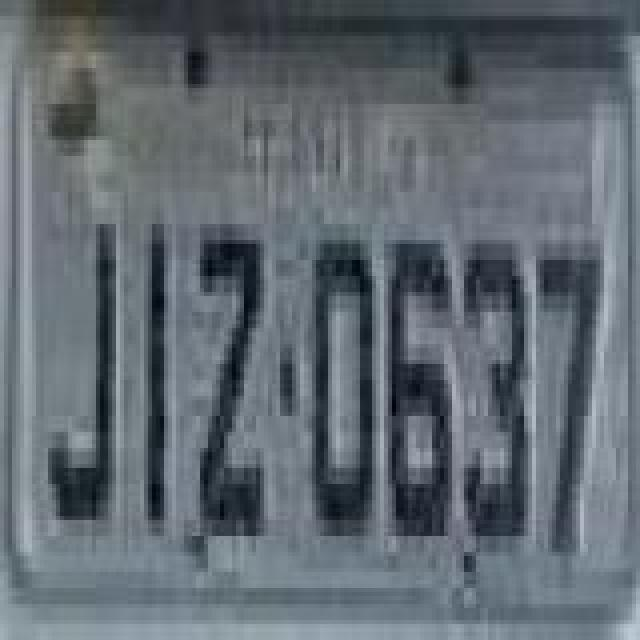1: (140, 208, 172, 536)
3: (456, 228, 536, 556)
6: (386, 236, 454, 548)
7: (534, 244, 610, 556)
J: (42, 216, 118, 544)
O: (310, 224, 378, 536)
Z: (194, 216, 270, 544)
